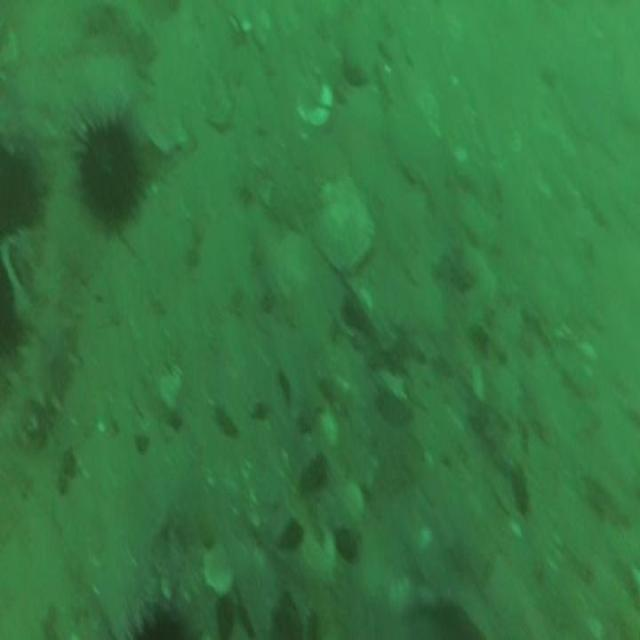echinus: (78, 125, 140, 224), (0, 147, 39, 235)
holothurian: (2, 264, 76, 442), (484, 294, 527, 471)
scallop: (310, 185, 374, 275)
